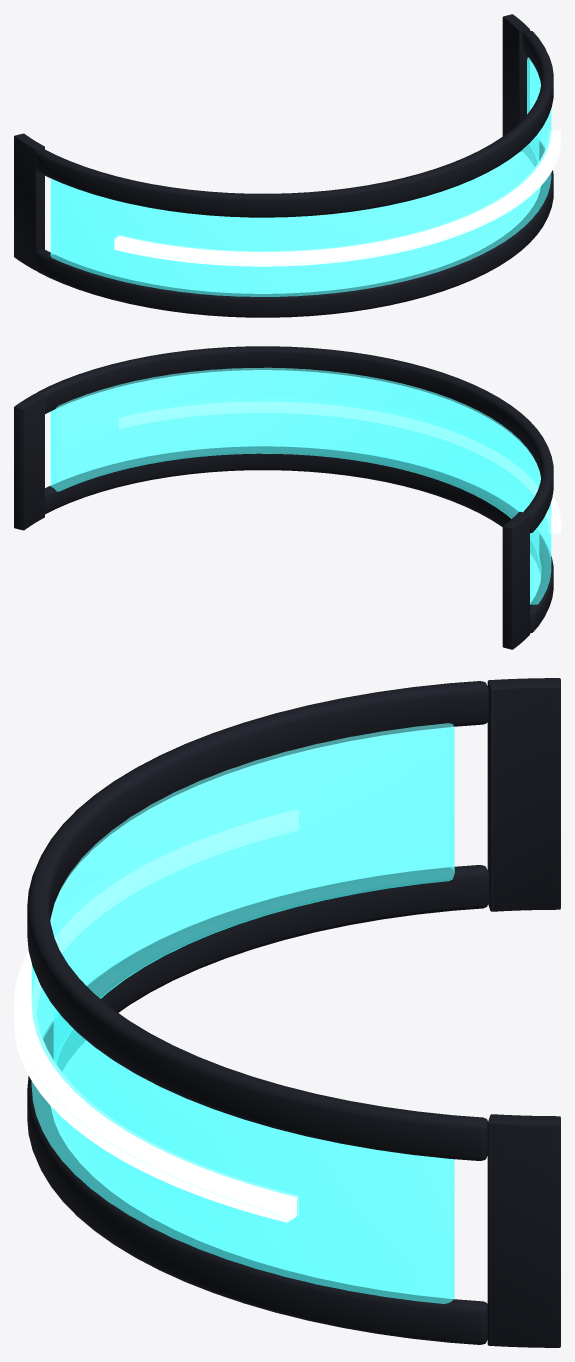
File: visor.glb
The picture shows the model from 3 angles, top to bottom: view 1: azimuth 30°, elevation 25°; view 2: azimuth 150°, elevation 25°; view 3: azimuth 270°, elevation 25°; orthographic projection. The views are drawn at different scales.
Visible parts, largest first — view 1: visor; view 2: visor; view 3: visor.
Boxes of the visible parts, left/top/right/bottom form: visor: left=14, top=14, right=560, bottom=317; visor: left=14, top=346, right=560, bottom=649; visor: left=14, top=678, right=560, bottom=1347.
Size of the model in its own units: 1.2 by 0.2799 by 0.62.
